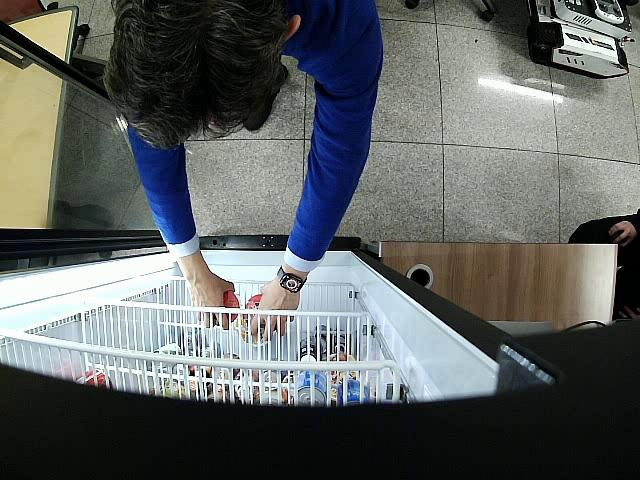00_hand: (185, 258, 236, 331), (248, 282, 299, 341)
02_shinRamen_S: (242, 294, 266, 334), (213, 290, 240, 324)
